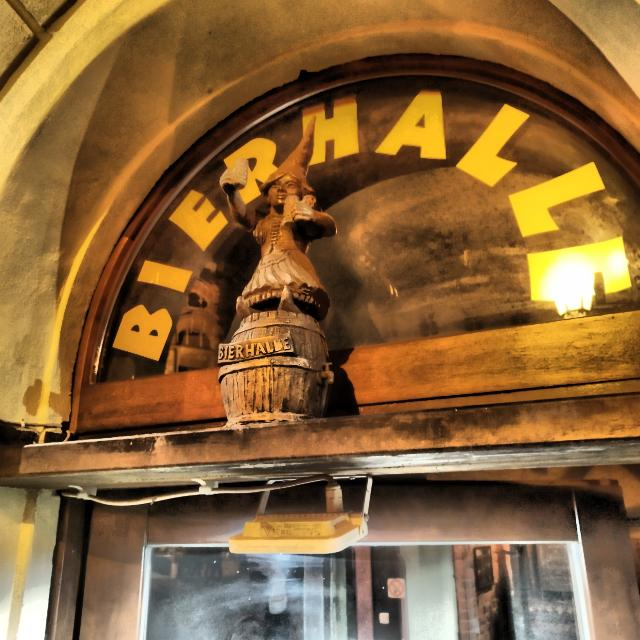Bawarka: (218, 116, 336, 426)
